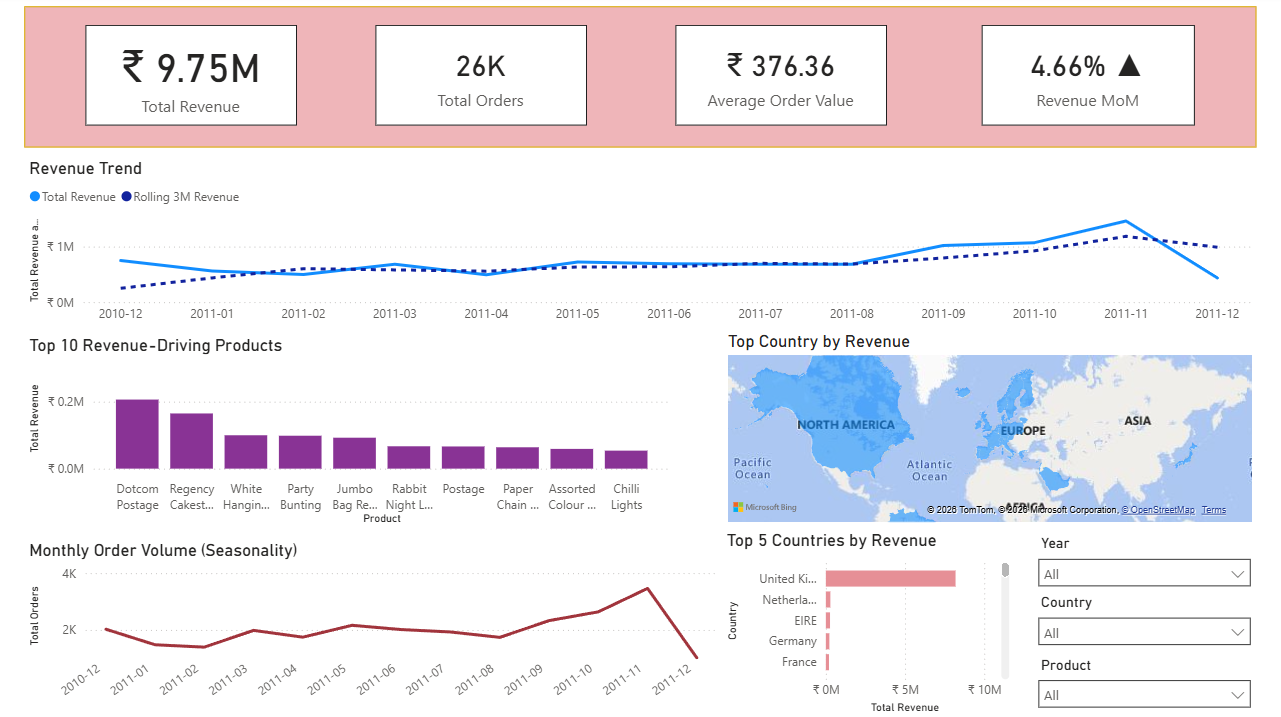

This screenshot's page, from the dashboard's own definition file:
{"tool":"powerbi","page":{"name":"Page 1","canvas":[1280,720],"ordinal":0},"visuals":[{"type":"shape","box":[26.1,72.1,1226.5,120.7],"z":0},{"type":"card","fields":{"Values":["Sale Details.Total Revenue"]},"box":[87.1,91.1,209,85.8],"z":1000},{"type":"card","fields":{"Values":["Sale Details.Total Orders"]},"box":[374.4,91.1,210.2,85.8],"z":2000},{"type":"card","fields":{"Values":["Sale Details.Average Order Value"]},"box":[674.2,91.1,209,85.8],"z":3000},{"type":"card","fields":{"Values":["Sale Details.Revenue MoM"]},"box":[977.8,91.1,212.7,85.8],"z":4000},{"type":"lineChart","title":"Revenue Trend","fields":{"Y":["Sale Details.Total Revenue","Sale Details.Rolling 3M Revenue"],"Category":["DimDate.Year-Month"]},"box":[26.1,200.3,1229,156.7],"z":5000},{"type":"clusteredColumnChart","title":"Top 10 Revenue-Driving Products","fields":{"Category":["Sale Details.Description"],"Y":["Sale Details.Total Revenue"]},"box":[26.1,359.5,648.1,172.9],"z":6000},{"type":"filledMap","title":"Top Country by Revenue","fields":{"Category":["Sale Details.Country"]},"box":[721.5,359.5,531.2,170.4],"z":7000},{"type":"lineChart","title":"Monthly Order Volume (Seasonality)","fields":{"Y":["Sale Details.Total Orders"],"Category":["DimDate.Year-Month"]},"box":[26.1,542.4,694.1,172.9],"z":8000},{"type":"slicer","fields":{"Values":["DimDate.Year"]},"box":[1025.2,532.2,231.4,58.7],"z":9000},{"type":"slicer","fields":{"Values":["Sale Details.Country"]},"box":[1025.2,590.9,231.4,64.1],"z":10000},{"type":"slicer","fields":{"Values":["Sale Details.Description"]},"box":[1025.2,653.2,231.4,58.7],"z":11000},{"type":"clusteredBarChart","title":"Top 5 Countries by Revenue","fields":{"Y":["Sale Details.Total Revenue"],"Category":["Sale Details.Country"]},"box":[719.9,532.4,291.4,187.6],"z":12000},{"type":"textbox","box":[26.1,0,706.6,69.7],"z":12001}]}

Visuals, with their boxes in screenshot pixels (x1, y1, x2, y2), scaled from the page's 1280x720 canvas onto the 1281x717 screenshot:
shape: detection(26, 72, 1254, 192)
card - Sale Details.Total Revenue: detection(87, 91, 296, 176)
card - Sale Details.Total Orders: detection(375, 91, 585, 176)
card - Sale Details.Average Order Value: detection(675, 91, 884, 176)
card - Sale Details.Revenue MoM: detection(979, 91, 1191, 176)
"Revenue Trend" lineChart: detection(26, 199, 1256, 356)
"Top 10 Revenue-Driving Products" clusteredColumnChart: detection(26, 358, 675, 530)
"Top Country by Revenue" filledMap: detection(722, 358, 1254, 528)
"Monthly Order Volume (Seasonality)" lineChart: detection(26, 540, 721, 712)
slicer - DimDate.Year: detection(1026, 530, 1258, 588)
slicer - Sale Details.Country: detection(1026, 588, 1258, 652)
slicer - Sale Details.Description: detection(1026, 650, 1258, 709)
"Top 5 Countries by Revenue" clusteredBarChart: detection(720, 530, 1012, 716)
textbox: detection(26, 0, 733, 69)
